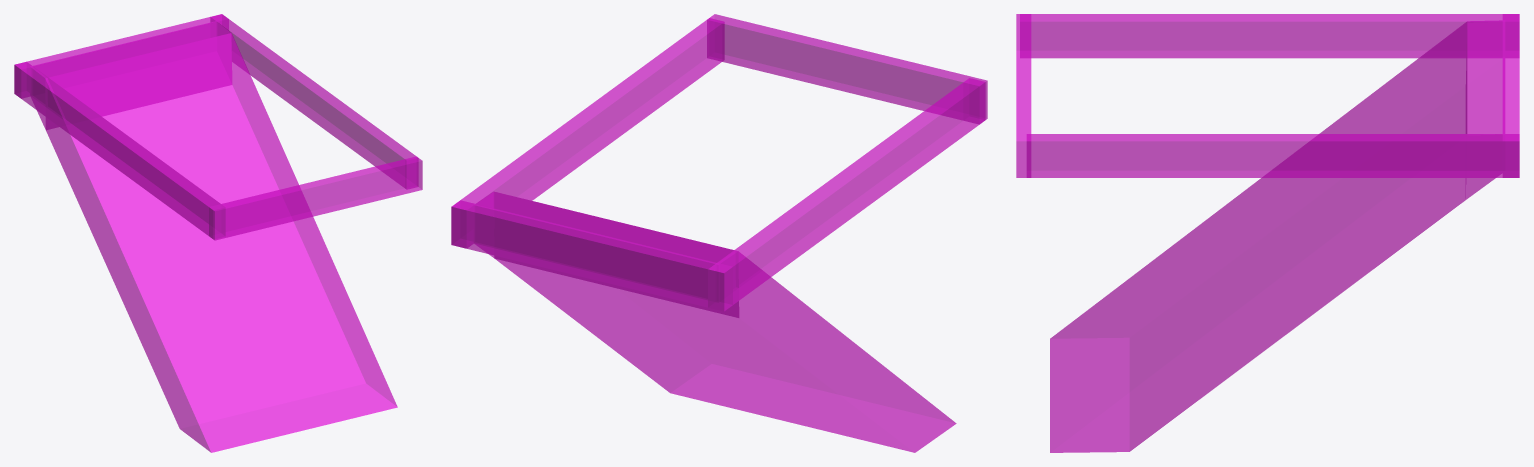
Rendered from SM_Veh_Ship_Stairs_03_Collision.fbx.
The picture shows the model from 3 angles, left to right: view 1: azimuth 30°, elevation 25°; view 2: azimuth 150°, elevation 25°; view 3: azimuth 270°, elevation 25°; orthographic projection. The views are drawn at different scales.
Visible parts, largest first — view 1: SM_Veh_Ship_Stairs_03_Collision; view 2: SM_Veh_Ship_Stairs_03_Collision; view 3: SM_Veh_Ship_Stairs_03_Collision.
Part boxes in pixels (left/top/right/bottom): SM_Veh_Ship_Stairs_03_Collision: left=14, top=14, right=422, bottom=452; SM_Veh_Ship_Stairs_03_Collision: left=451, top=14, right=987, bottom=452; SM_Veh_Ship_Stairs_03_Collision: left=1016, top=14, right=1519, bottom=452.
Size of the model in its own units: 261 by 305 by 436.
